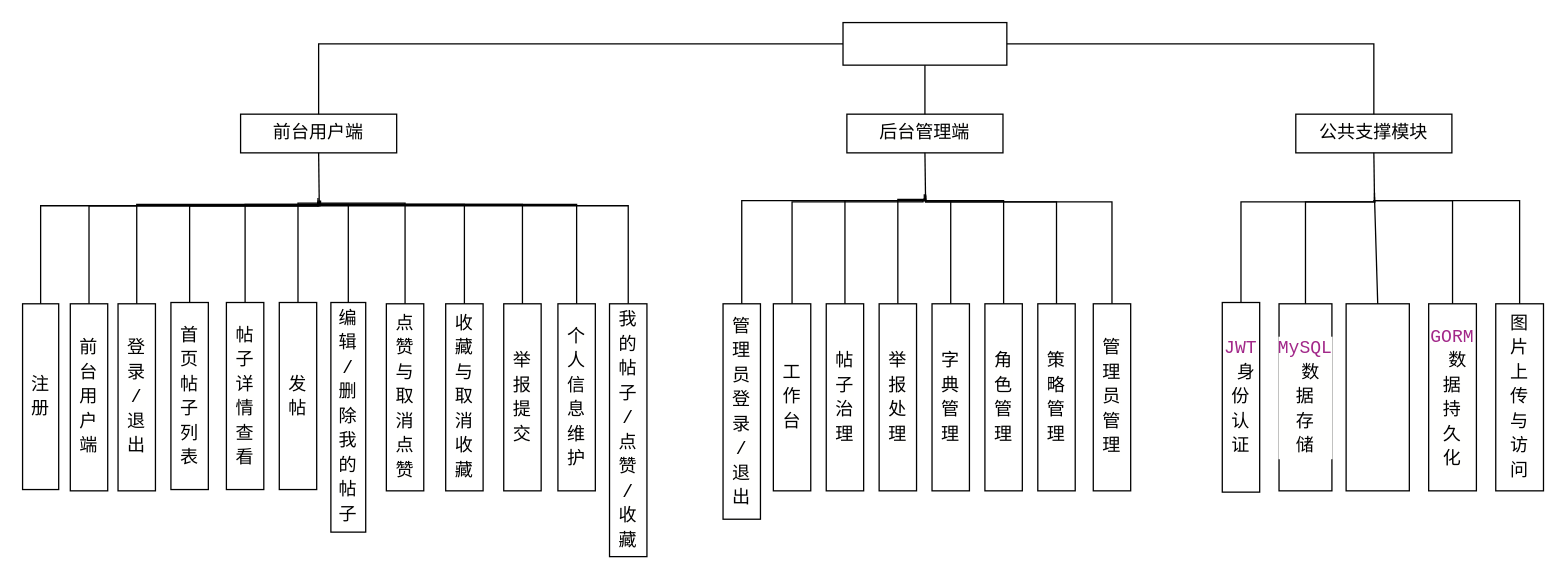
The diagram is 1566 pixels wide and 579 high, and some of its shapes have lost their labels. Each missing label, with the centre of its shape:
Casbin 权 限 控 制: (x=1377, y=397)
美食景点分享网站: (x=924, y=43)
